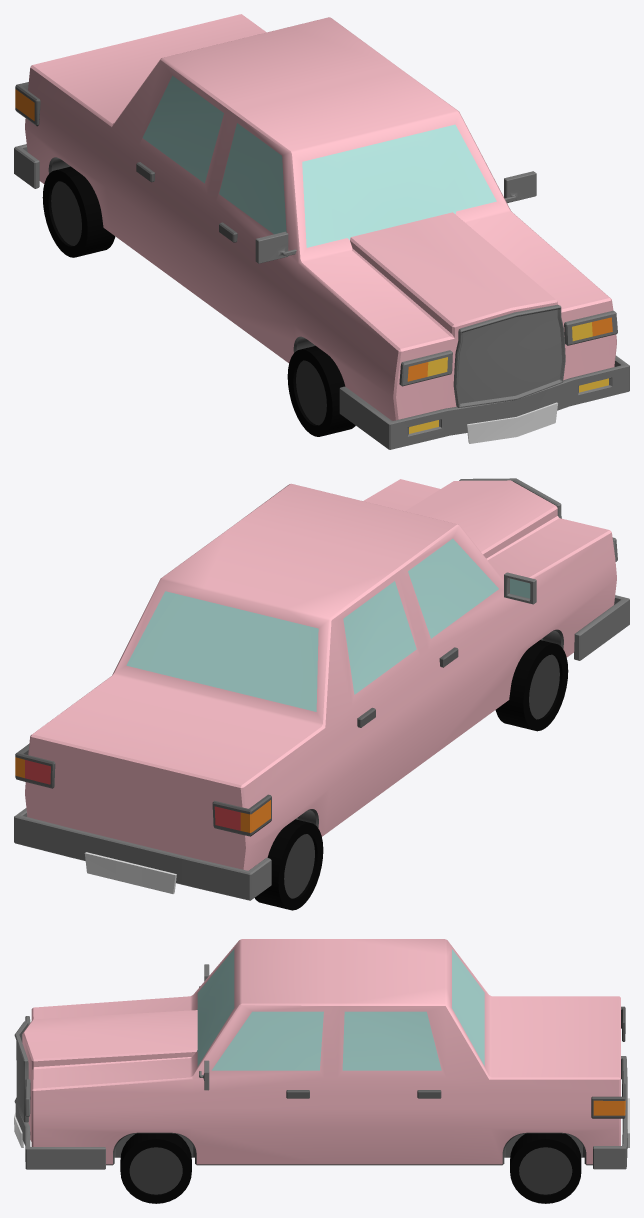
The model's file is pBart.fbx.
The picture shows the model from 3 angles, top to bottom: view 1: azimuth 30°, elevation 25°; view 2: azimuth 150°, elevation 25°; view 3: azimuth 270°, elevation 25°; orthographic projection. The views are drawn at different scales.
Parts seen in each view (by area): view 1: whiteranger.001; view 2: whiteranger.001; view 3: whiteranger.001.
Boxes of the visible parts, x1,y1,x2,y2 form: whiteranger.001: (14, 14, 629, 449); whiteranger.001: (14, 478, 629, 910); whiteranger.001: (14, 939, 629, 1203).
Size of the model in its own units: 264 by 213 by 636.
